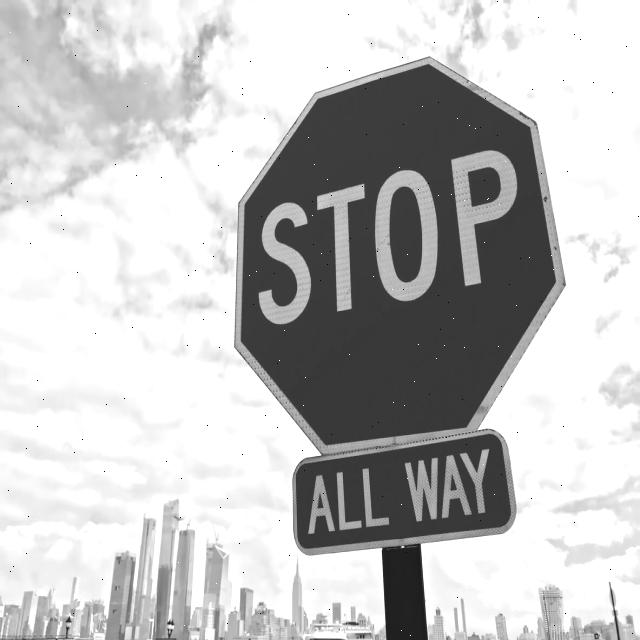Stop-sign: (212, 45, 578, 437)
